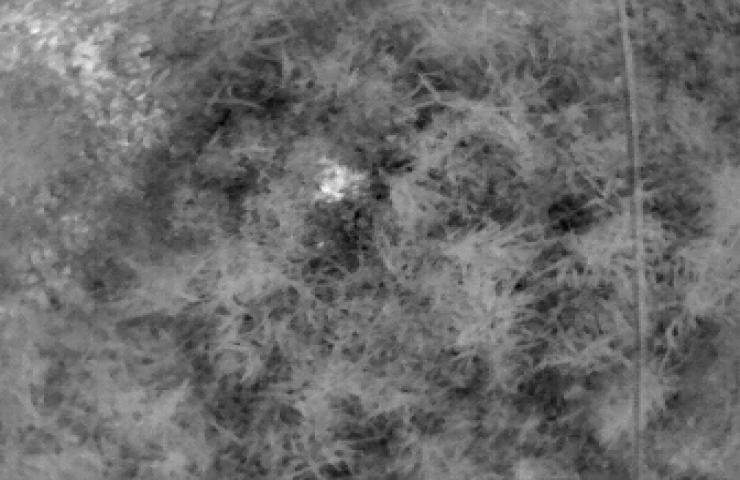landmines: (313, 160, 363, 201)
